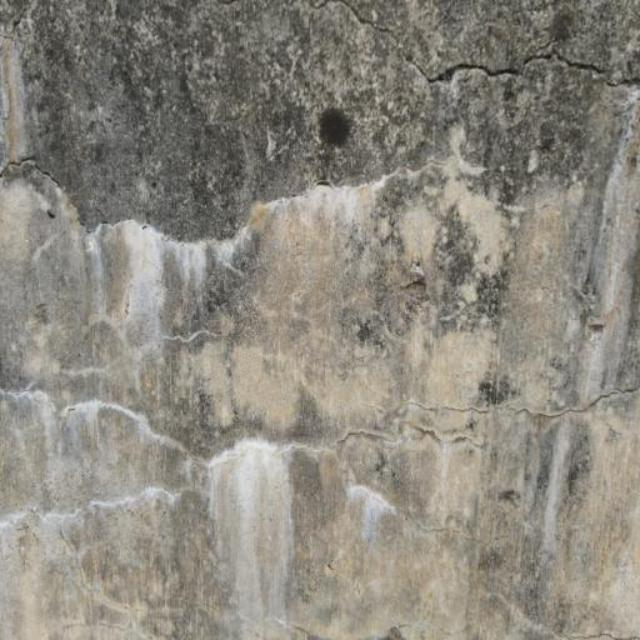D01: (206, 438, 293, 639), (598, 82, 639, 379), (346, 482, 397, 539)
